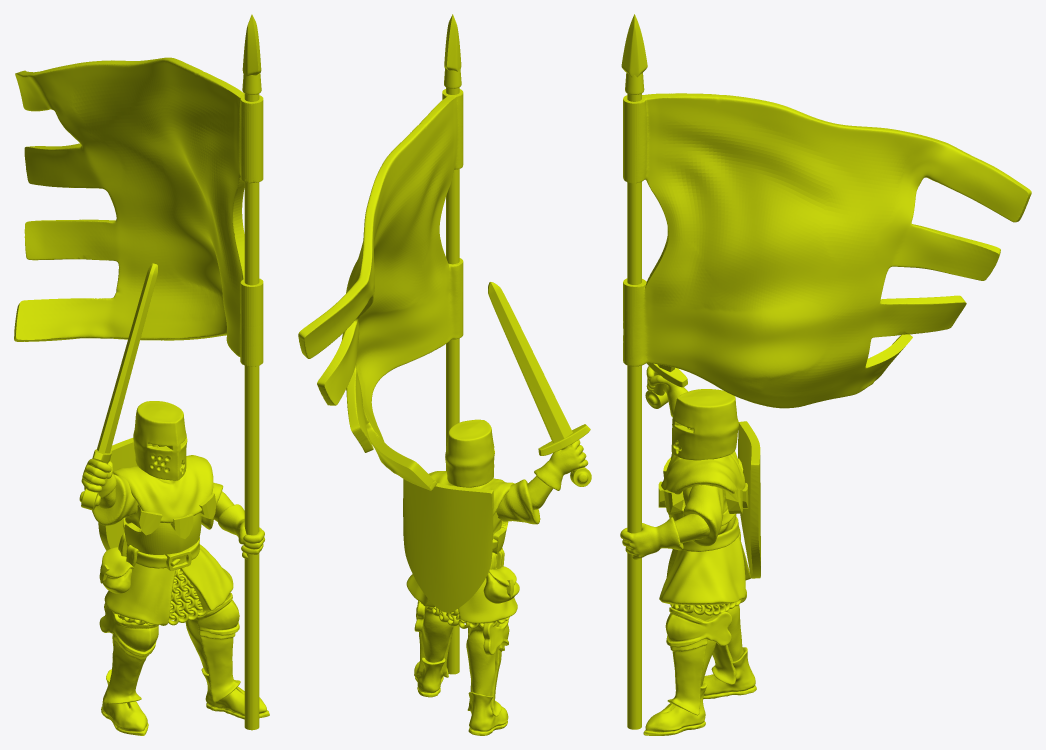
File: caballeroVictoria.glb
The picture shows the model from 3 angles, left to right: view 1: azimuth 30°, elevation 25°; view 2: azimuth 150°, elevation 25°; view 3: azimuth 270°, elevation 25°; orthographic projection. The views are drawn at different scales.
Visible parts, largest first — view 1: shield.002; view 2: shield.002; view 3: shield.002.
Part boxes in pixels (x1,y1,x2,y2): shield.002: (14,14,269,735); shield.002: (298,14,591,735); shield.002: (620,14,1031,735).
Bounding box in the file's own units: 23.4 × 78.4 × 40.54.
